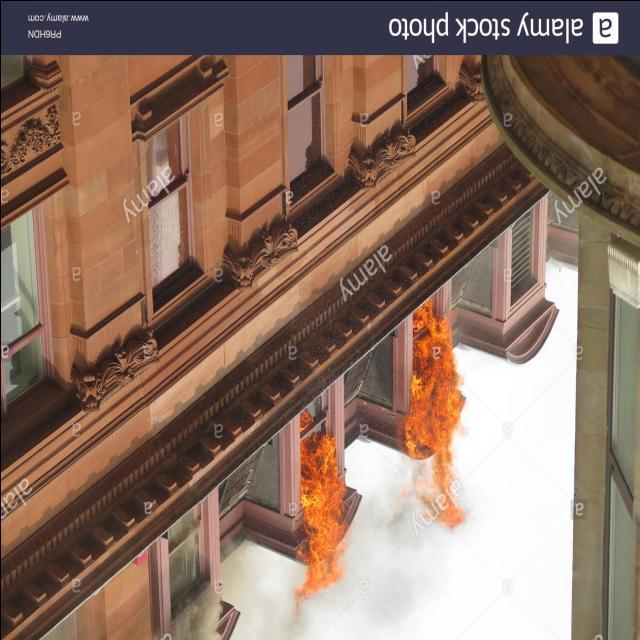Fire: (386, 293, 485, 561), (279, 418, 361, 588)
